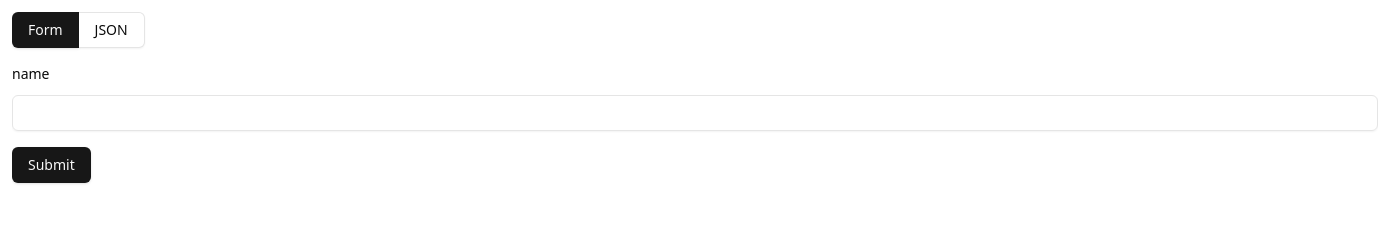
Scenario: Form › validates required string fields
The image size is (1390, 233).
Submit without entering a value
Click the button "Submit".
click(51, 165)  # box [12,147,91,183]
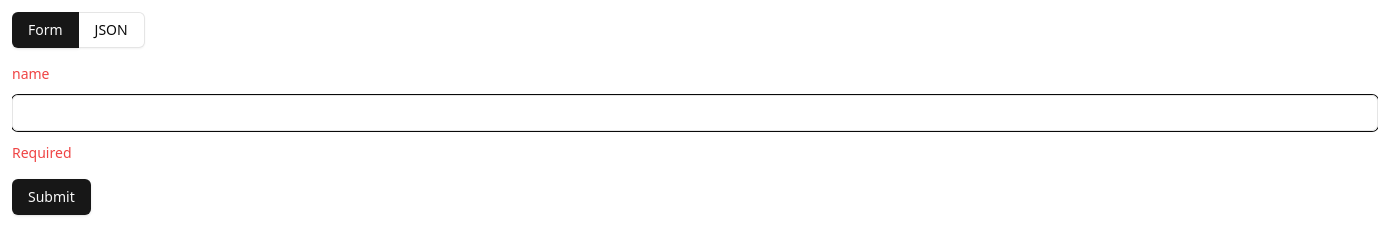
Expected: the text "Required" is shown, [12,143,72,162]
